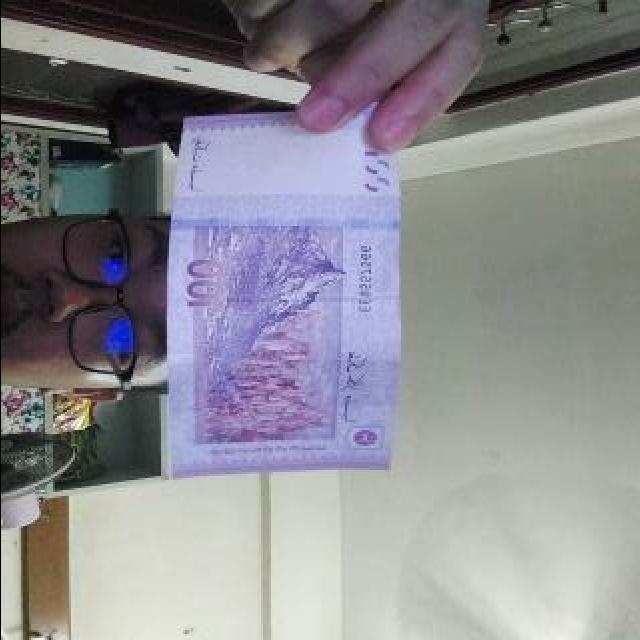100 Ringgit: (158, 110, 396, 480)
